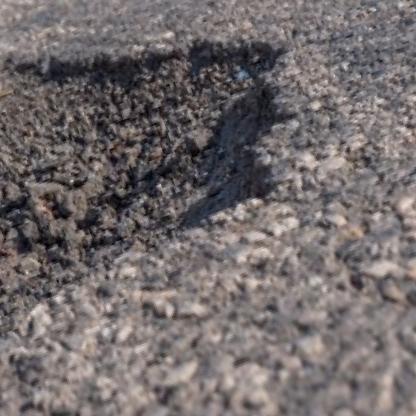pothole: (0, 0, 342, 359)
